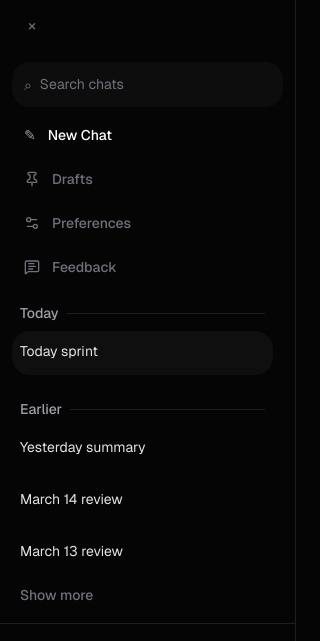
renders Today and Earlier sections and expands the collapsed Earlier list
Expected: the text "Today" is shown, [20,303,59,323]
Expected: the text "Earlier" is shown, [20,399,62,419]
Click the button with aria-label "Show 3 more chats": click(57, 595) [12,585,101,605]
(page scrolled)
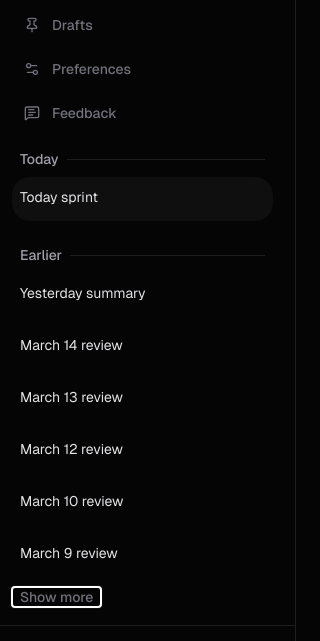
Expected: the text "March 12 review" is shown, [20,440,123,458]
Expected: the text "March 10 review" is shown, [20,492,124,510]
Expected: the button with aria-label "Show 1 more chats" is shown
Click the button with aria-label "Show 1 more chats": click(57, 597) [12,587,101,607]
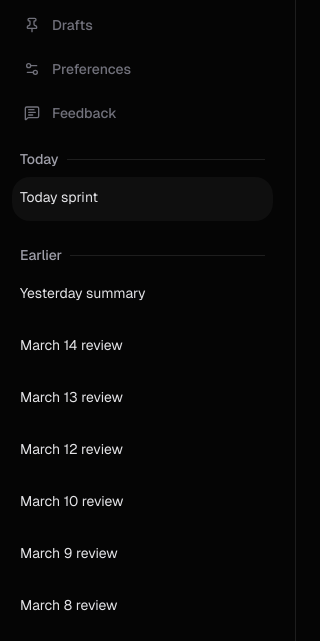
Expected: the text "March 8 review" is shown, [20,596,118,614]
Expected: the button "Show more" is gone
